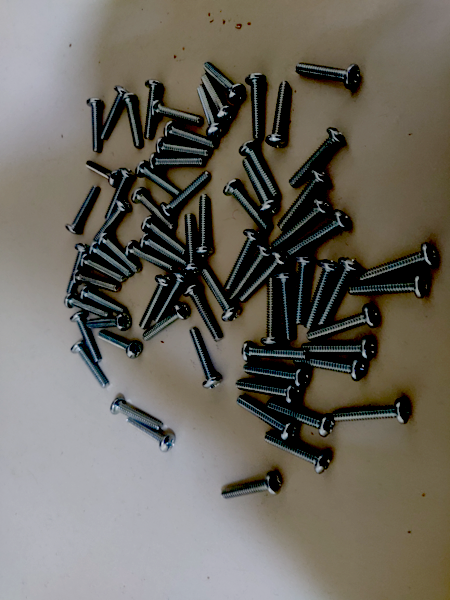longscrew: (289, 129, 343, 184), (287, 213, 356, 256), (306, 261, 347, 331), (315, 259, 356, 328), (357, 245, 439, 279), (272, 199, 328, 247), (277, 171, 324, 228), (242, 252, 288, 308), (239, 395, 296, 440), (308, 306, 377, 343), (224, 175, 268, 230), (231, 243, 272, 299), (266, 436, 331, 471), (241, 140, 280, 198), (184, 285, 223, 342), (183, 331, 222, 388), (267, 404, 336, 436), (348, 273, 432, 299), (224, 228, 256, 290), (327, 403, 420, 424), (152, 271, 190, 321), (163, 174, 209, 215), (293, 62, 364, 87), (223, 472, 284, 501), (243, 158, 272, 219), (94, 231, 138, 271), (69, 343, 107, 389), (204, 270, 238, 321), (64, 185, 98, 236), (274, 271, 298, 343), (145, 303, 188, 343), (131, 188, 176, 226), (70, 312, 101, 367), (260, 276, 284, 347), (268, 79, 292, 150), (200, 75, 234, 125), (127, 239, 171, 277), (142, 234, 186, 272), (142, 216, 186, 254), (137, 275, 169, 327), (295, 253, 318, 325), (135, 161, 179, 197), (296, 358, 366, 380), (99, 85, 128, 137), (238, 380, 303, 403), (304, 339, 375, 360), (164, 123, 217, 151), (204, 59, 242, 98), (91, 200, 128, 240), (198, 84, 225, 136), (104, 167, 131, 219), (128, 419, 173, 450), (60, 243, 86, 295), (89, 246, 132, 277), (245, 68, 261, 150), (180, 212, 200, 275), (240, 344, 306, 363), (111, 405, 164, 428), (196, 194, 215, 258), (246, 365, 307, 384), (122, 92, 142, 149), (97, 334, 142, 359), (84, 94, 103, 153), (154, 138, 212, 156), (79, 259, 126, 281), (143, 80, 160, 139), (153, 102, 206, 120), (148, 155, 206, 171), (84, 161, 122, 185), (80, 294, 128, 313), (63, 297, 109, 316), (72, 275, 124, 290), (86, 315, 132, 331)
